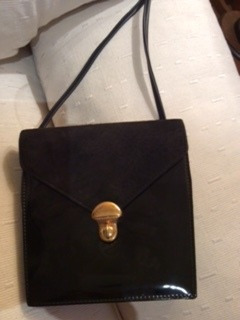cartera: (17, 119, 199, 310)
